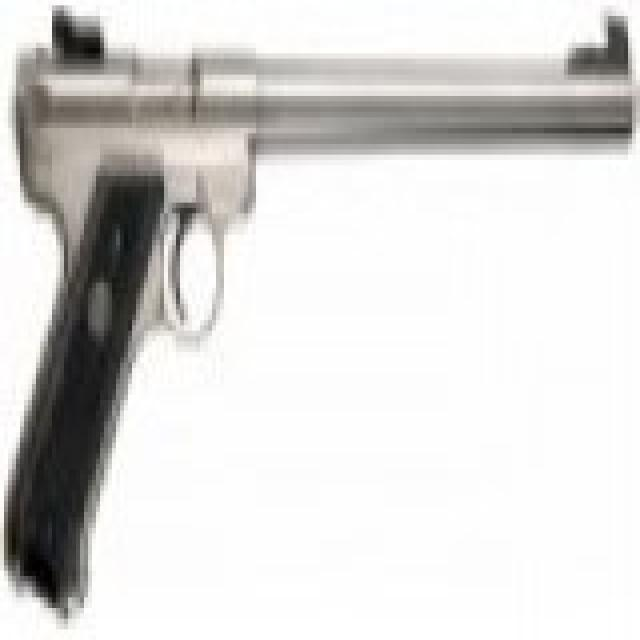Gun: (10, 24, 640, 610)
